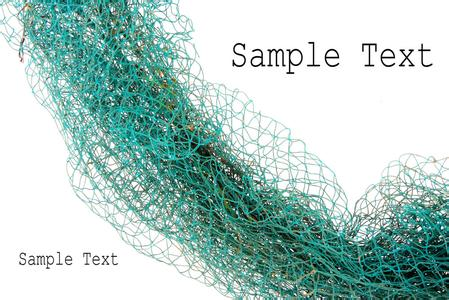net: (219, 120, 449, 298), (33, 5, 224, 195)
